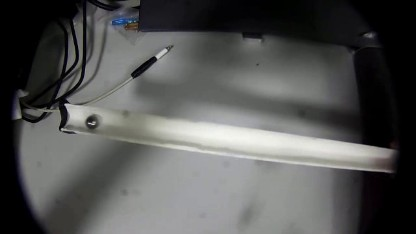gangzhu: (83, 113, 101, 131)
